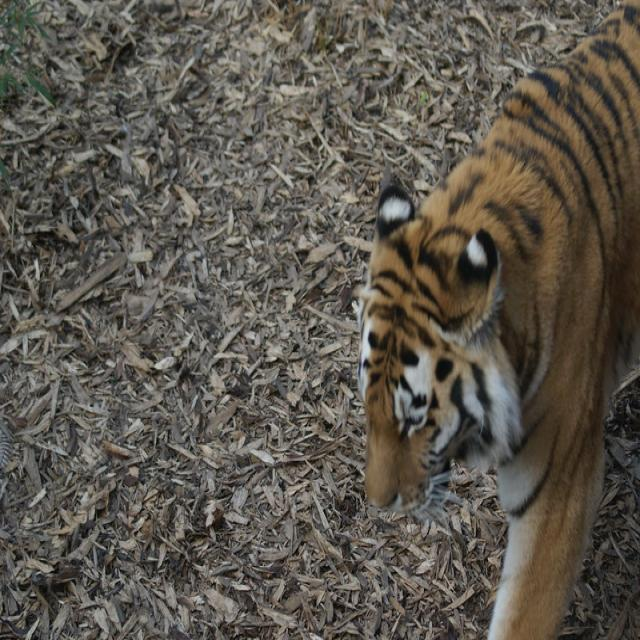Tiger: (357, 4, 639, 635)
